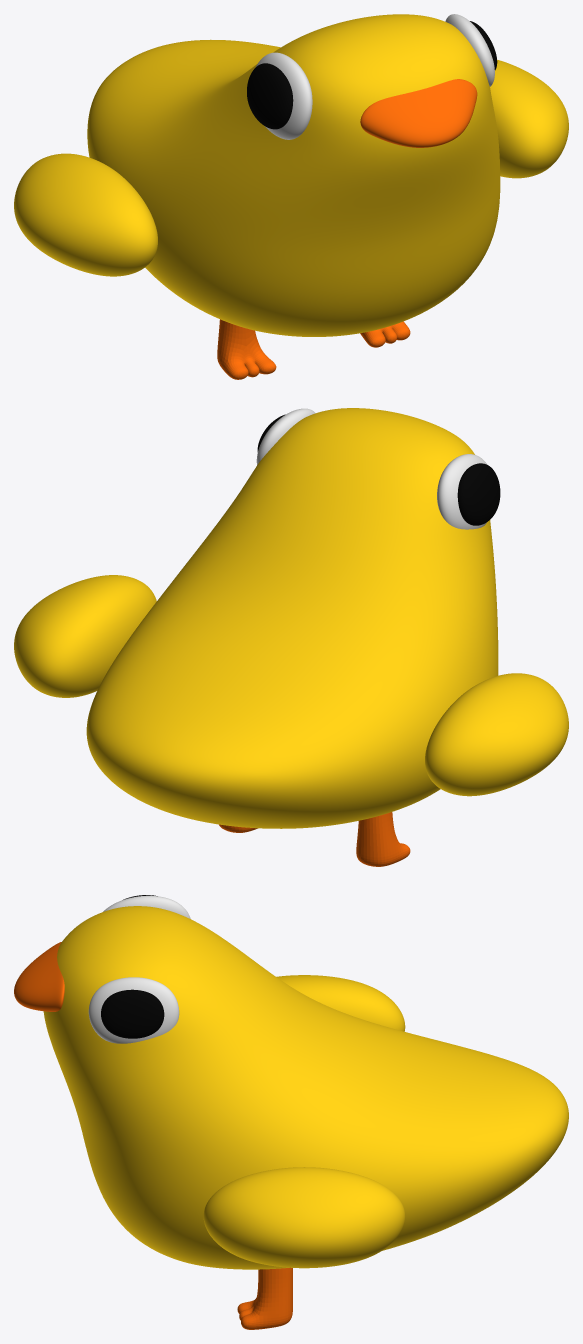
Rendered from chick.fbx.
3 renders of one model, top to bottom at view 1: azimuth 30°, elevation 25°; view 2: azimuth 150°, elevation 25°; view 3: azimuth 270°, elevation 25°, orthographic. The views are drawn at different scales.
Visible parts, largest first — view 1: Body, WingRight, WingLeft, Mouth, EyeRightIris, LegRight, EyeRight, EyeLeft, LegLeft; view 2: Body, WingRight, WingLeft, EyeRightIris, LegRight, EyeRight, EyeLeft; view 3: Body, WingLeft, WingRight, LegLeft, EyeLeftIris, EyeLeft, Mouth, EyeRight.
Boxes of the visible parts, <box> form: Body: <box>87,14,500,336</box>; WingRight: <box>14,153,157,276</box>; WingLeft: <box>490,59,568,178</box>; Mouth: <box>360,79,477,147</box>; EyeRightIris: <box>247,63,293,129</box>; LegRight: <box>217,319,276,379</box>; EyeRight: <box>256,52,312,139</box>; EyeLeft: <box>445,14,494,86</box>; LegLeft: <box>360,321,410,347</box>; Body: <box>86,408,498,828</box>; WingRight: <box>425,673,568,796</box>; WingLeft: <box>14,575,156,697</box>; EyeRightIris: <box>457,463,500,525</box>; LegRight: <box>356,812,410,866</box>; EyeRight: <box>437,454,487,529</box>; EyeLeft: <box>256,408,315,464</box>; Body: <box>43,906,568,1269</box>; WingLeft: <box>203,1167,405,1268</box>; WingRight: <box>276,975,405,1031</box>; LegLeft: <box>237,1267,292,1329</box>; EyeLeftIris: <box>101,989,164,1038</box>; EyeLeft: <box>88,977,179,1043</box>; Mouth: <box>14,942,64,1011</box>; EyeRight: <box>103,895,190,918</box>.
Bounding box in the file's own units: 79.87 × 54.25 × 74.95.
